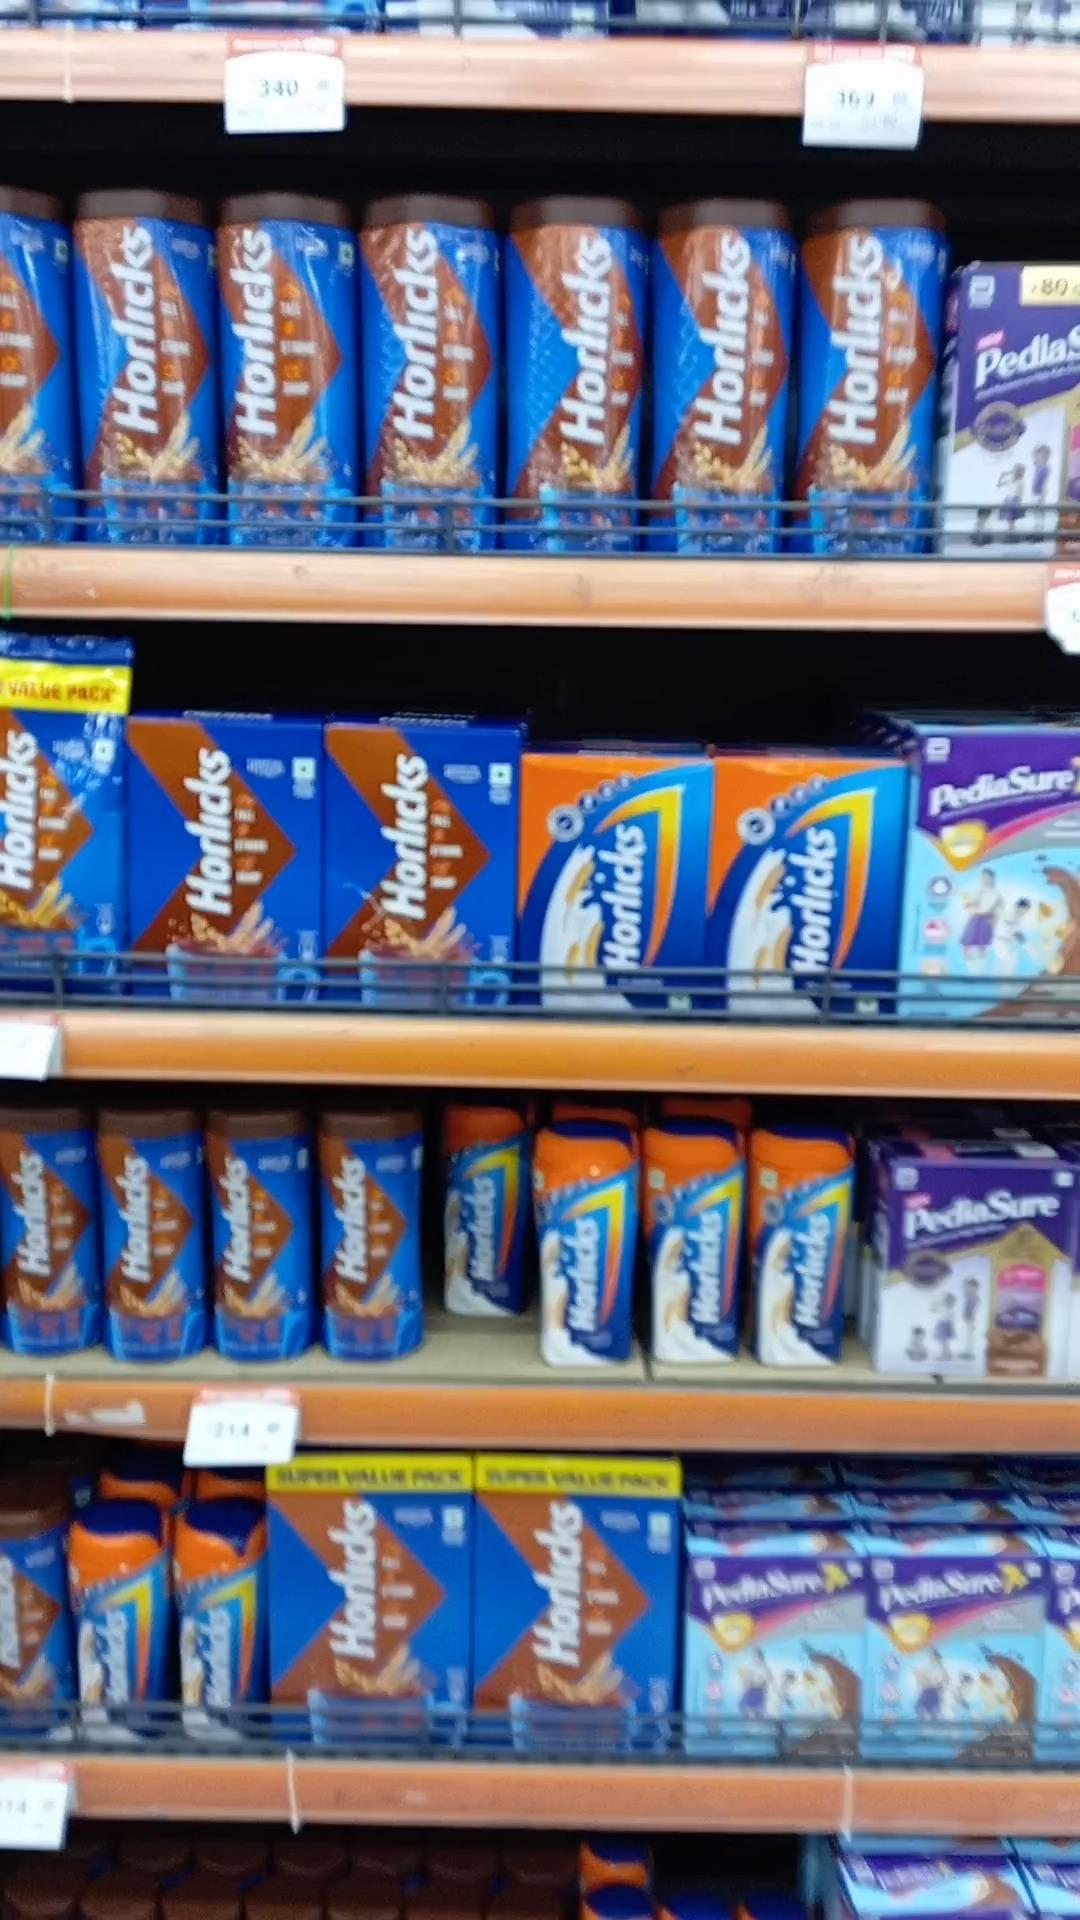HORLICK_CHOCOLATE_1_KG_JAR: (647, 181, 791, 564), (798, 194, 945, 563), (220, 179, 356, 547), (74, 183, 210, 545), (361, 183, 493, 554), (506, 186, 637, 545)
HORLICK_CHOCOLATE_1_KG_PACK: (473, 1461, 674, 1747), (270, 1452, 465, 1742)
HORLICK_CHOCOLATE_500_G_JAR: (212, 1109, 320, 1361), (100, 1106, 203, 1362), (0, 1108, 95, 1360), (328, 1113, 421, 1361)
HORLICK_CHOCOLATE_500_G_PACK: (128, 717, 319, 996), (326, 731, 513, 1001)
HORLICK_CLASSIC_MALT_500_G_JAR: (534, 1113, 637, 1369), (644, 1124, 749, 1364), (756, 1124, 855, 1370), (171, 1503, 261, 1751), (70, 1507, 160, 1750), (440, 1102, 527, 1324)
HORLICK_CLASSIC_MALT_500_G_PACK: (518, 756, 705, 1005), (713, 758, 894, 1014)
PEDIASURE_7_PLUS_CHOCOLATE_400_G_PACK: (868, 1551, 1048, 1764), (683, 1551, 862, 1760)
PEDIASURE_CHOCOLATE_500_G_PACK: (906, 724, 1080, 1027), (893, 1156, 1069, 1375)
